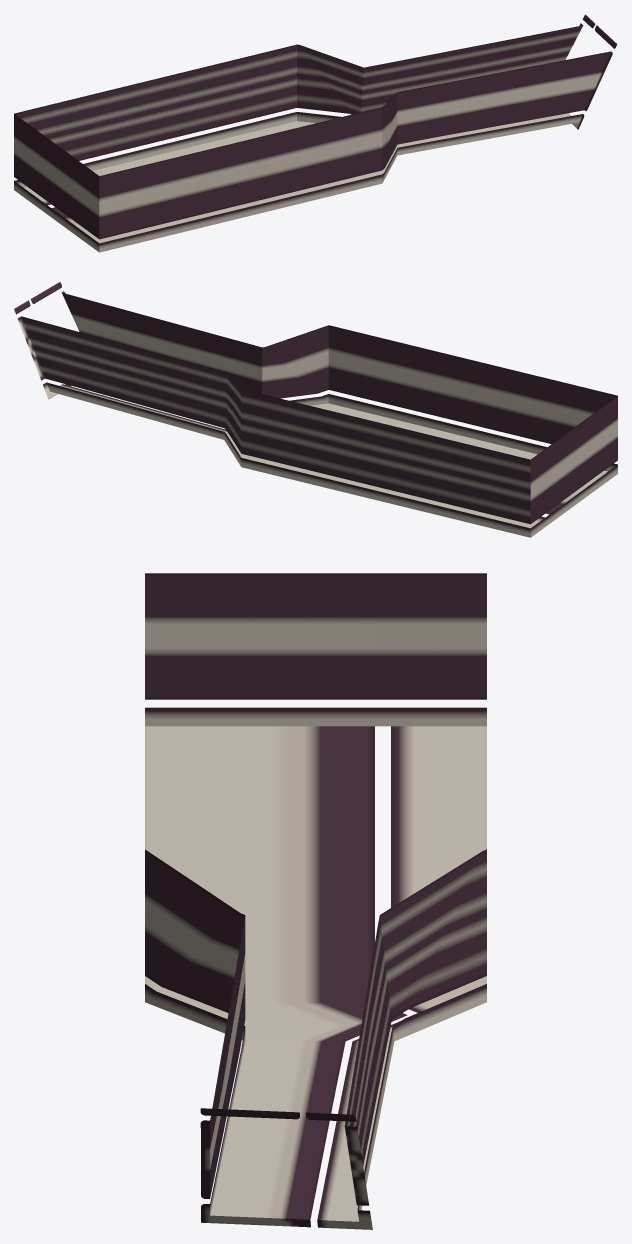
File: start_zone.obj
The picture shows the model from 3 angles, top to bottom: view 1: azimuth 30°, elevation 25°; view 2: azimuth 150°, elevation 25°; view 3: azimuth 270°, elevation 25°; orthographic projection. The views are drawn at different scales.
Parts seen in each view (by area): view 1: Sphere.002; view 2: Sphere.002; view 3: Sphere.002.
Boxes of the visible parts, box(x1,y1,x2,y2) form: Sphere.002: box(14, 14, 617, 252); Sphere.002: box(14, 282, 617, 537); Sphere.002: box(145, 573, 486, 1229).
Size of the model in its own units: 858 by 134 by 236.
